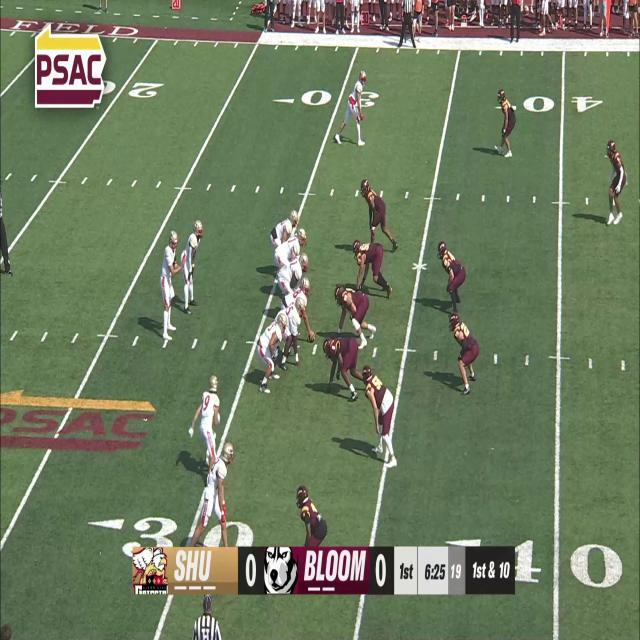football: (307, 332, 315, 342)
